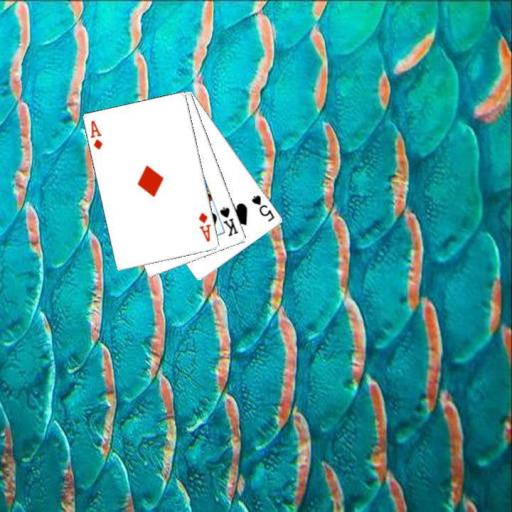5S: (249, 192, 276, 223)
AD: (196, 210, 213, 243), (88, 118, 104, 152)
KS: (217, 204, 240, 238)
